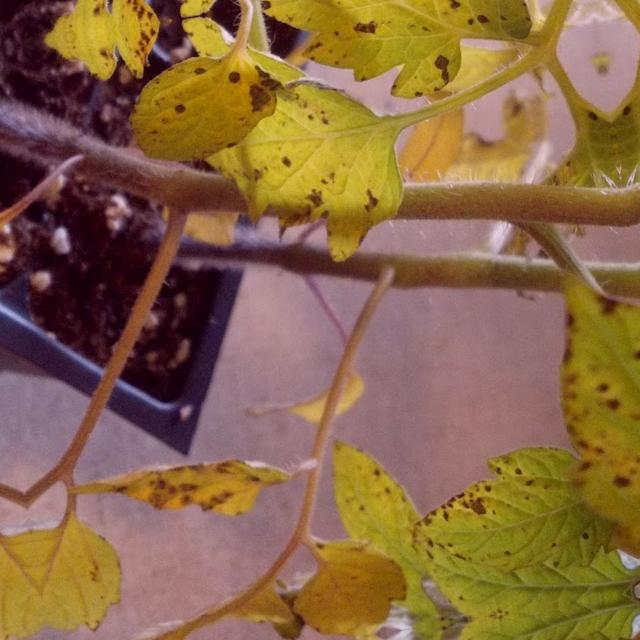Tomato Septoria leaf spot: (198, 57, 436, 302), (390, 400, 640, 628), (176, 0, 544, 121), (534, 255, 640, 600), (17, 15, 213, 103)
